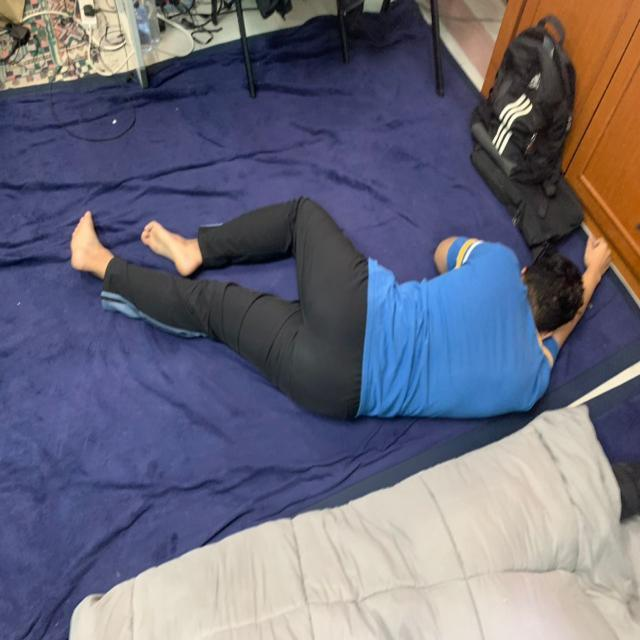fall: (67, 195, 610, 420)
